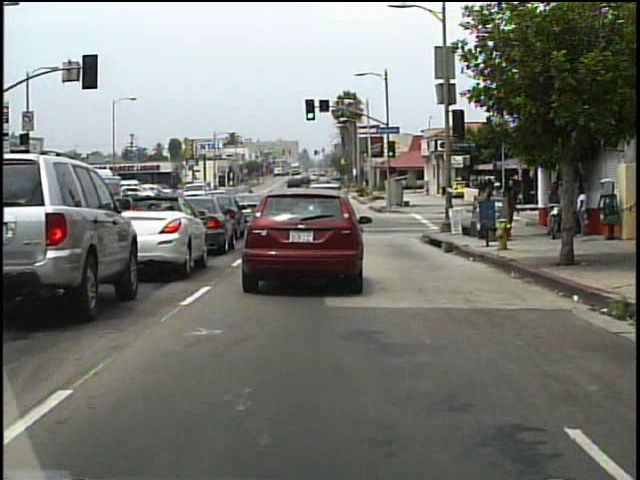person: (505, 181, 524, 237), (576, 186, 591, 239), (489, 180, 507, 223), (547, 182, 563, 230), (576, 183, 577, 240)
